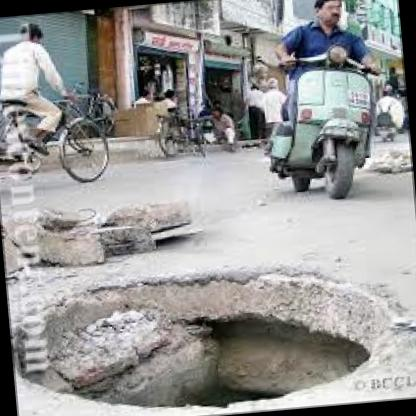manholes: (6, 236, 411, 416)
